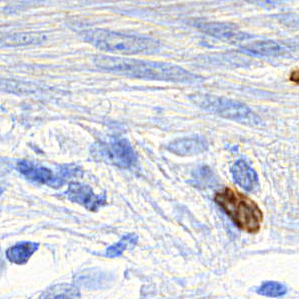Lymphocyte: (211, 184, 268, 236)
